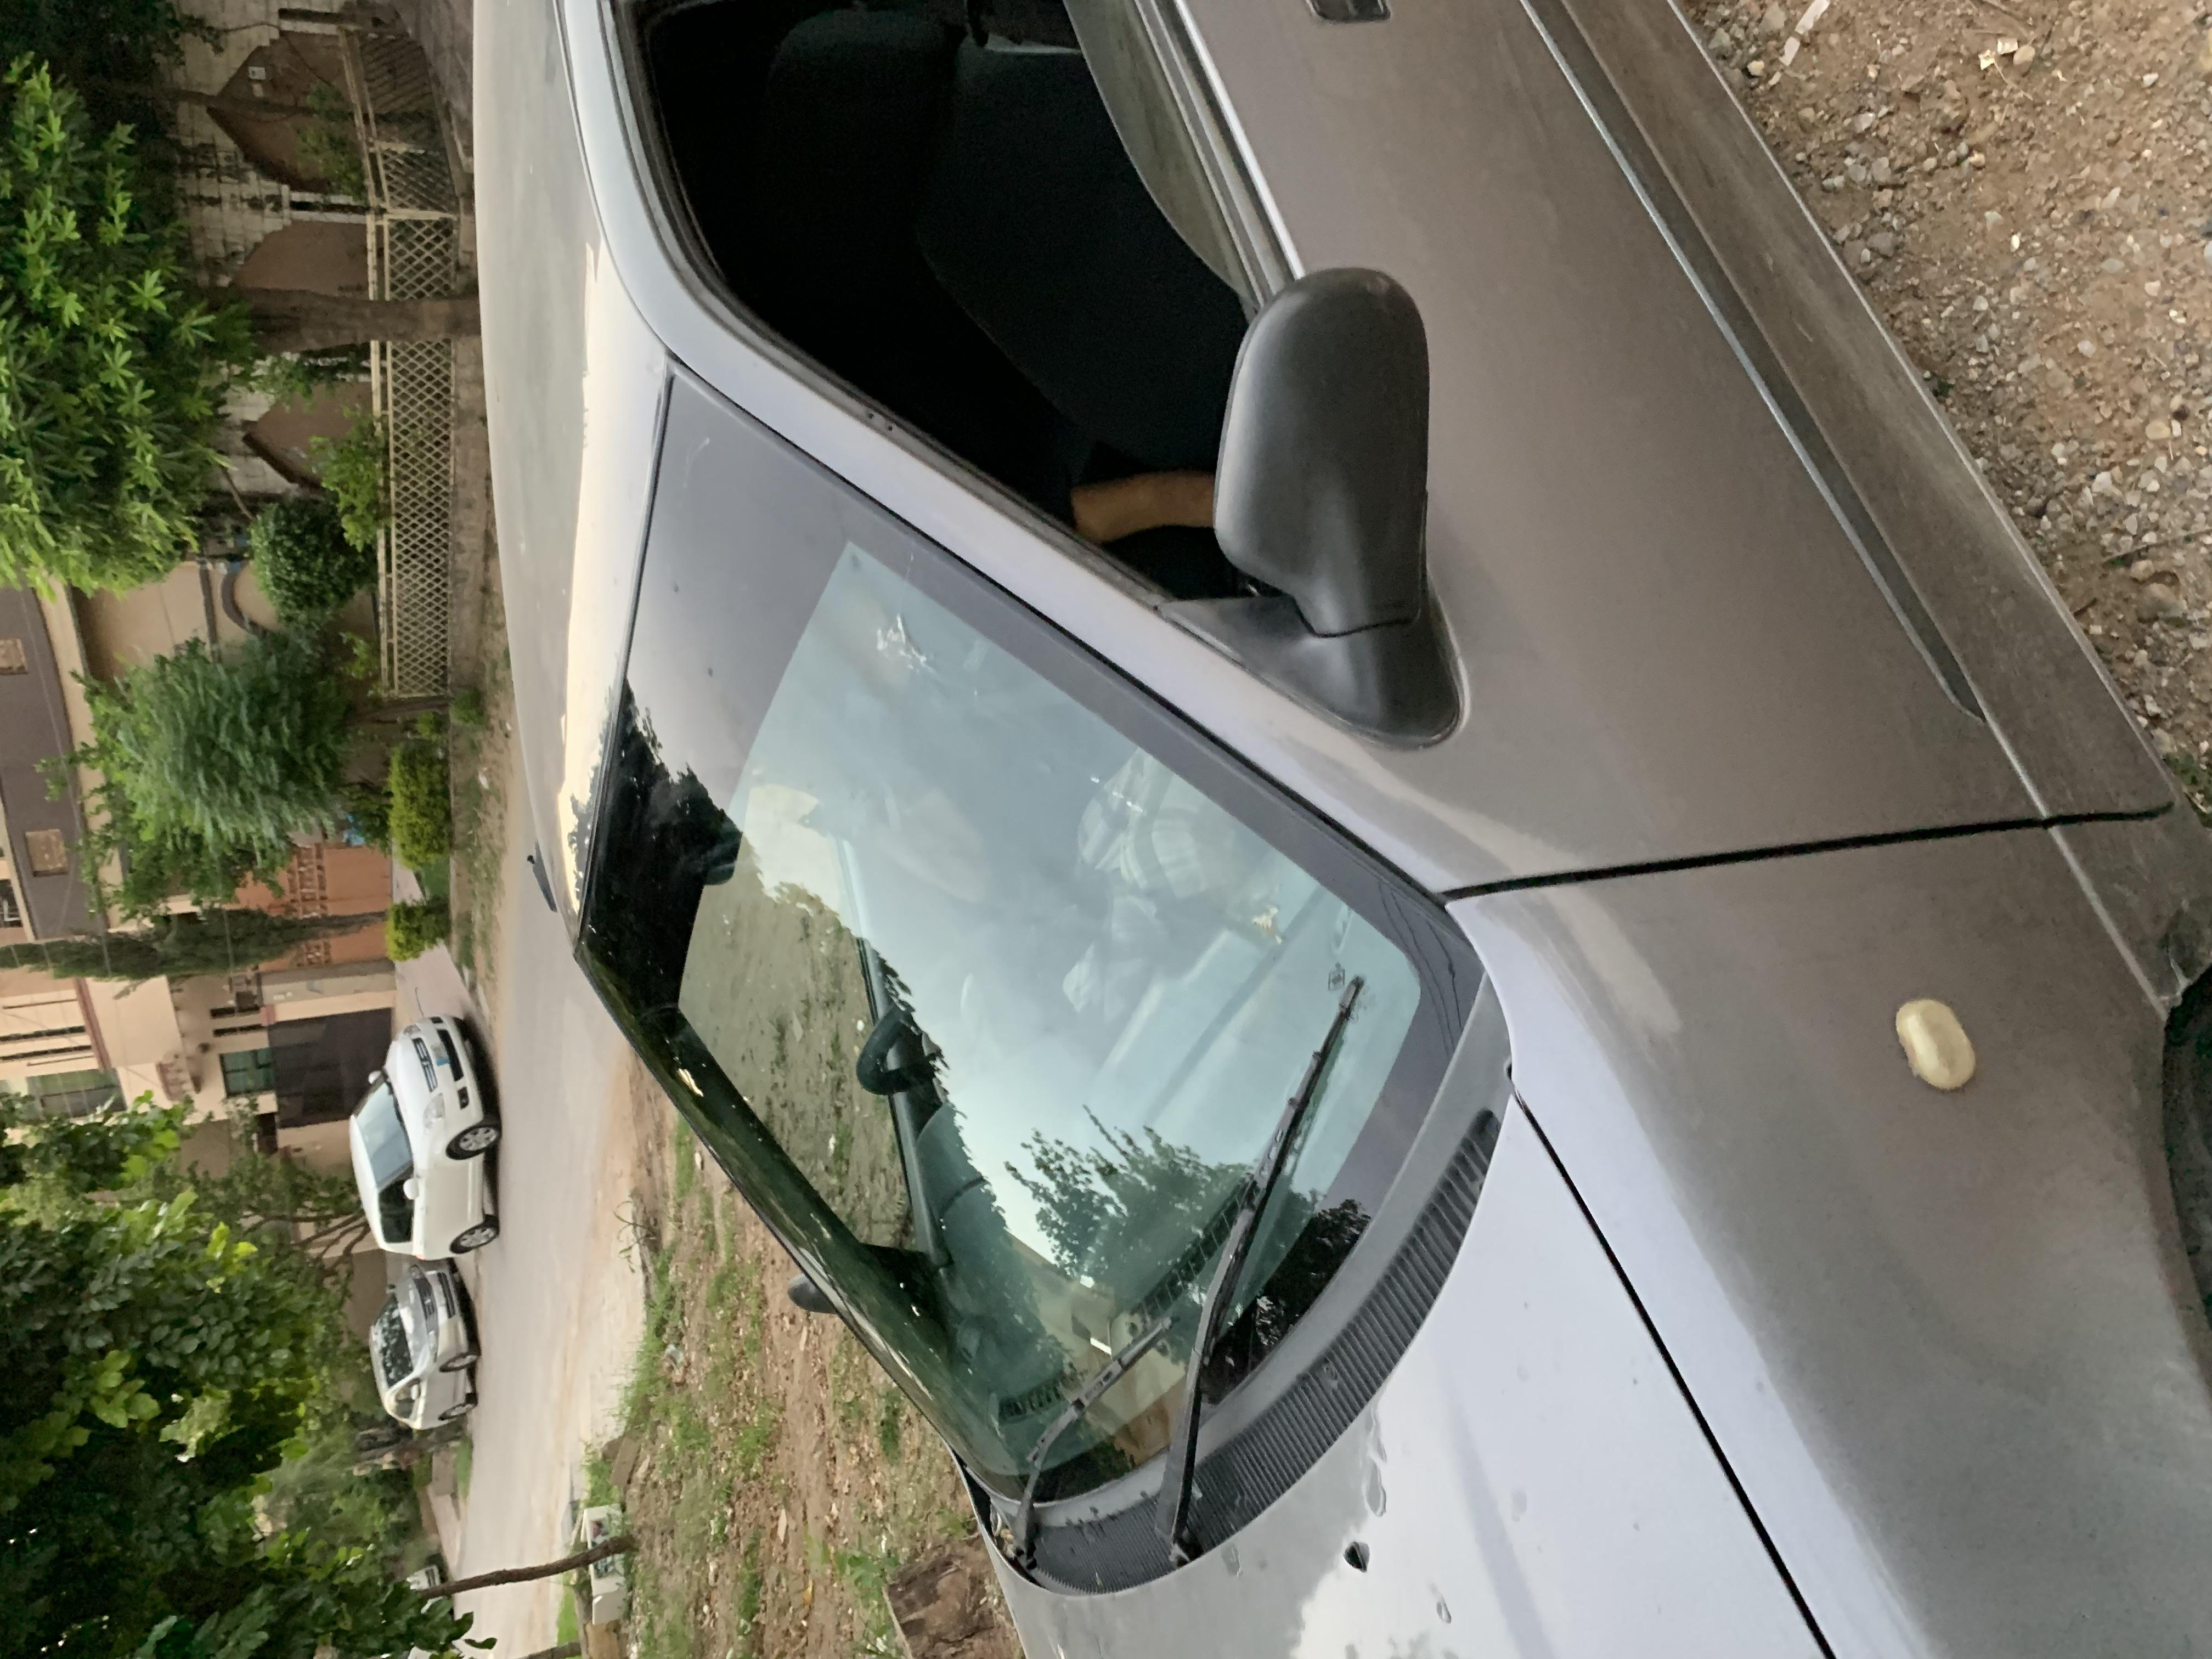windshield: (134, 408, 1764, 1127)
